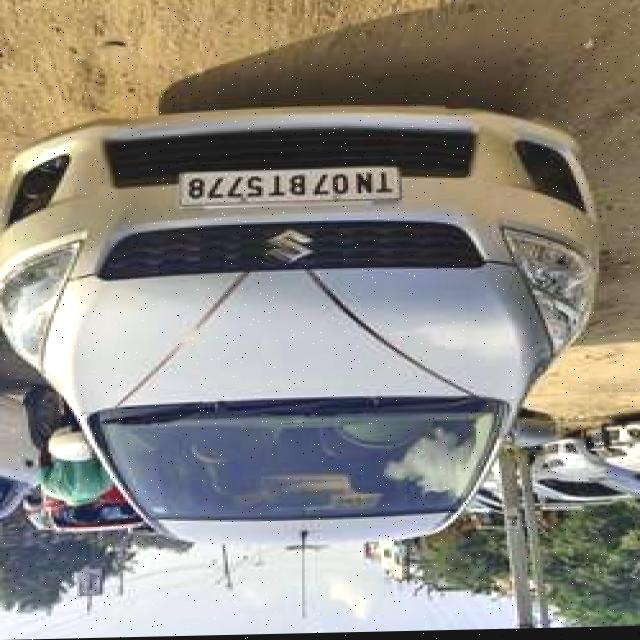plate: (177, 167, 407, 211)
